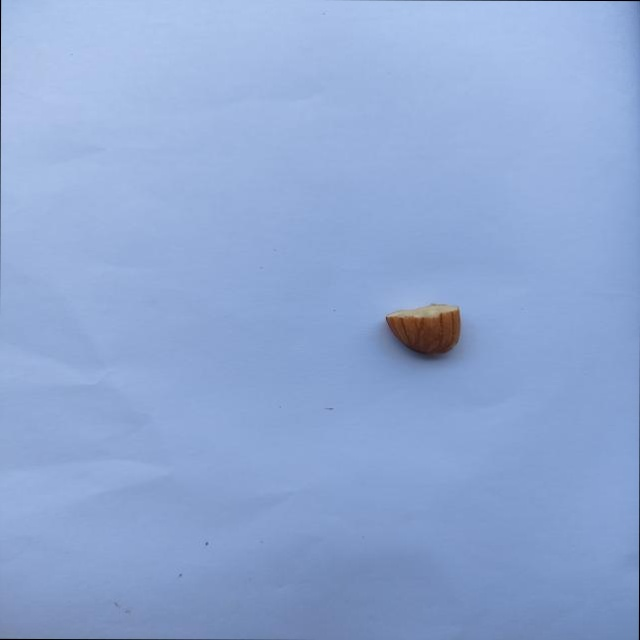grade4: (377, 299, 468, 362)
